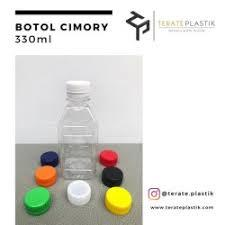BIODEGRADABLE: (58, 79, 110, 184)
